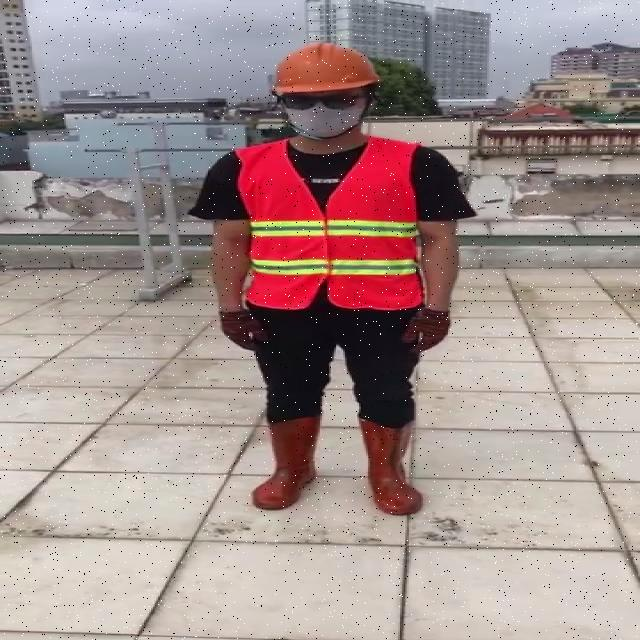Hard_hat: (262, 37, 384, 103)
Vest: (244, 136, 425, 312)
